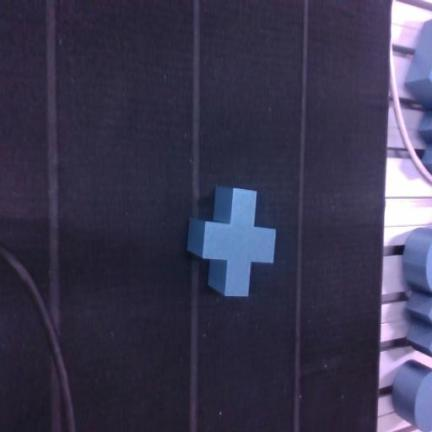cross: (188, 187, 275, 296)
